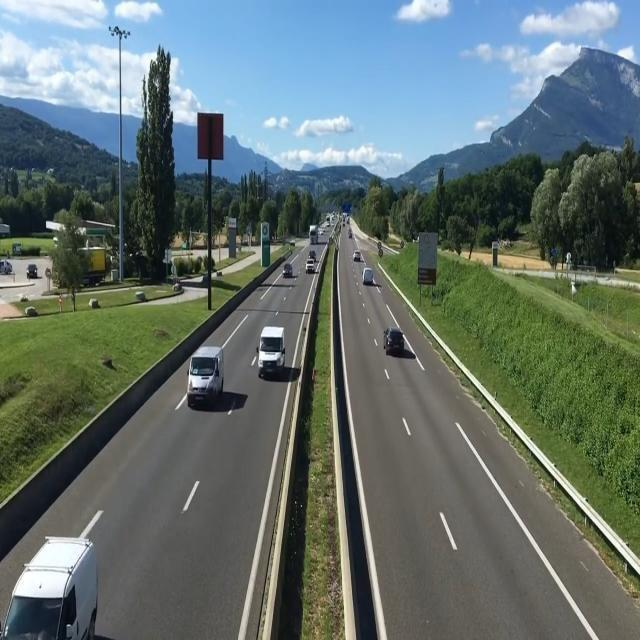Car: (375, 312, 415, 359), (280, 262, 294, 278), (307, 249, 319, 261), (353, 250, 363, 264), (305, 259, 315, 273)
Van: (7, 524, 99, 639), (180, 339, 227, 406), (254, 324, 290, 381), (363, 266, 377, 286)
